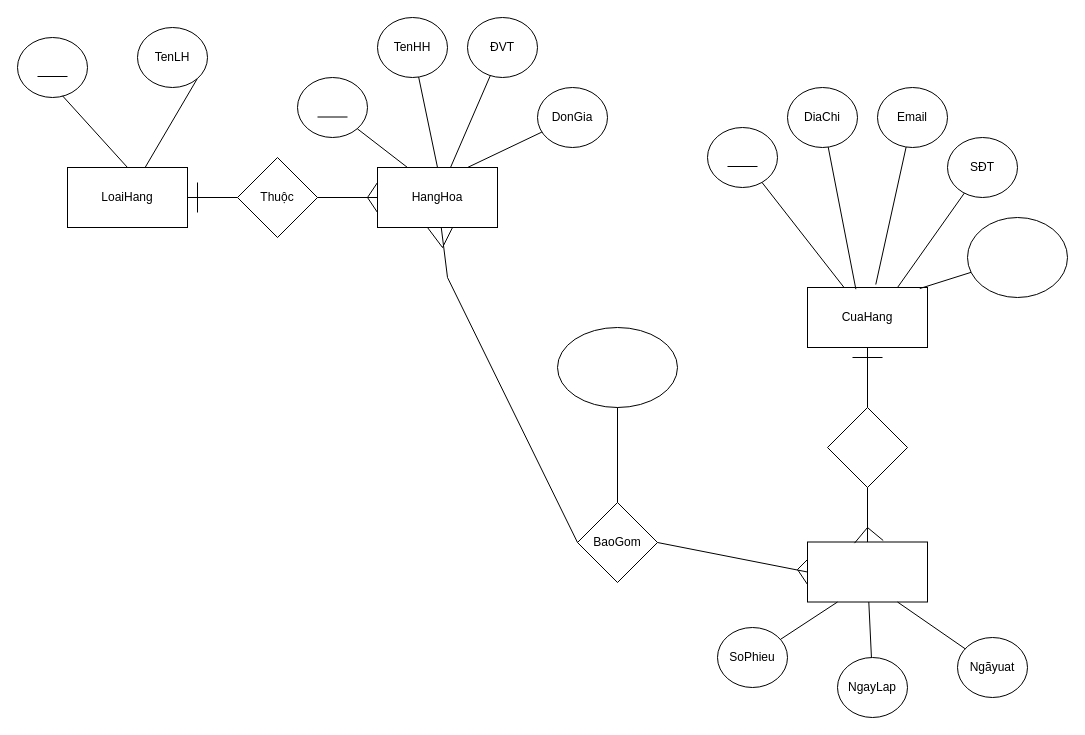
Image size: 1085x735. Some labels were removed from this diagram. The shapes that lost their labels are listed below. From the top down, each one's box as (x1, y1, x2, y2) in pixels, then its label:
(16, 36, 88, 98): MaLH
(296, 76, 368, 138): MaHH
(706, 126, 778, 188): MaCH
(966, 216, 1068, 298): NguoiDaiDien
(556, 326, 678, 408): SoLuong
(826, 406, 908, 488): Lap
(806, 541, 928, 602): PhieuXuat
